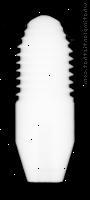Nobel Biocare: (15, 14, 75, 183)
